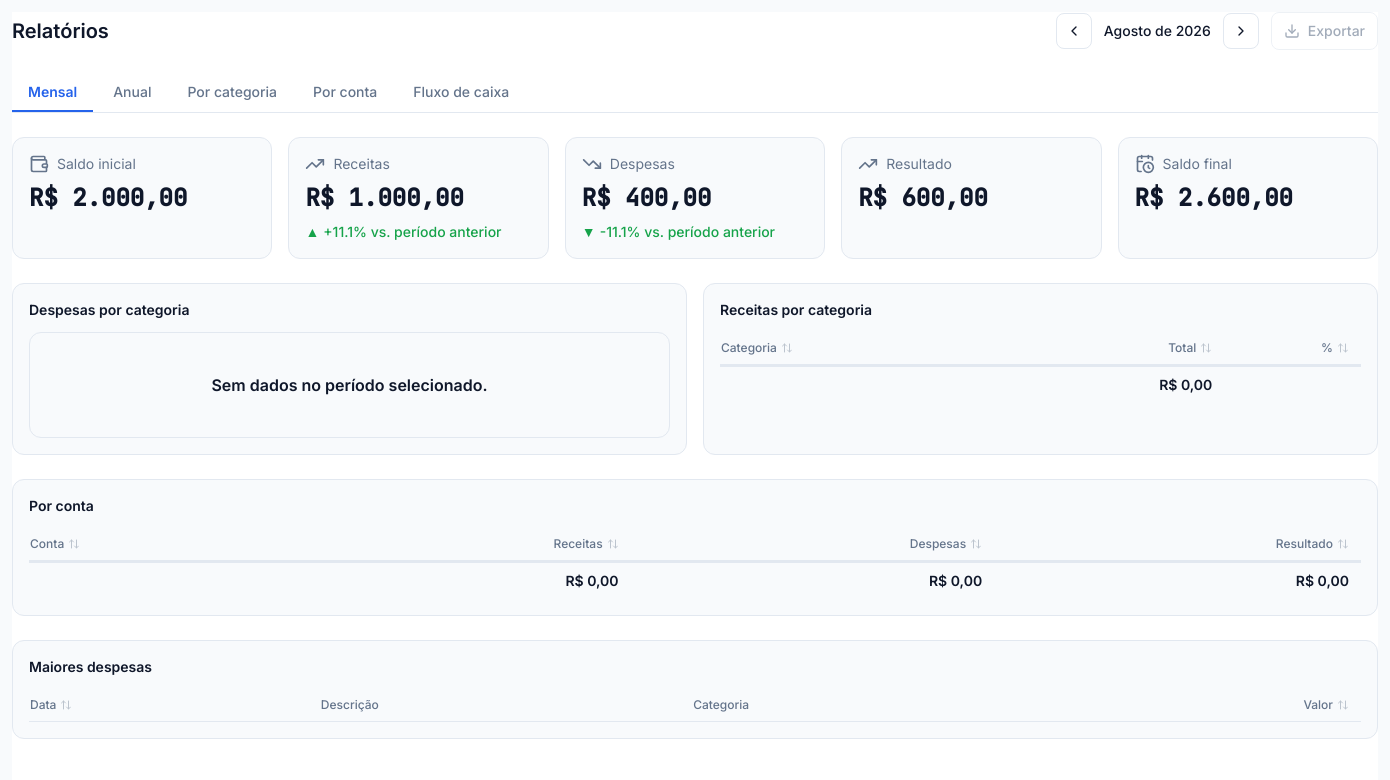
Scenario: Relatorios › trocar para a aba Anual usa navegação por ano em vez de mês
The image size is (1390, 780).
Expected: the text "Saldo inicial" is shown, [57,154,136,174]
Click the tab "Anual" at (132, 93), box [97,74,168,112]
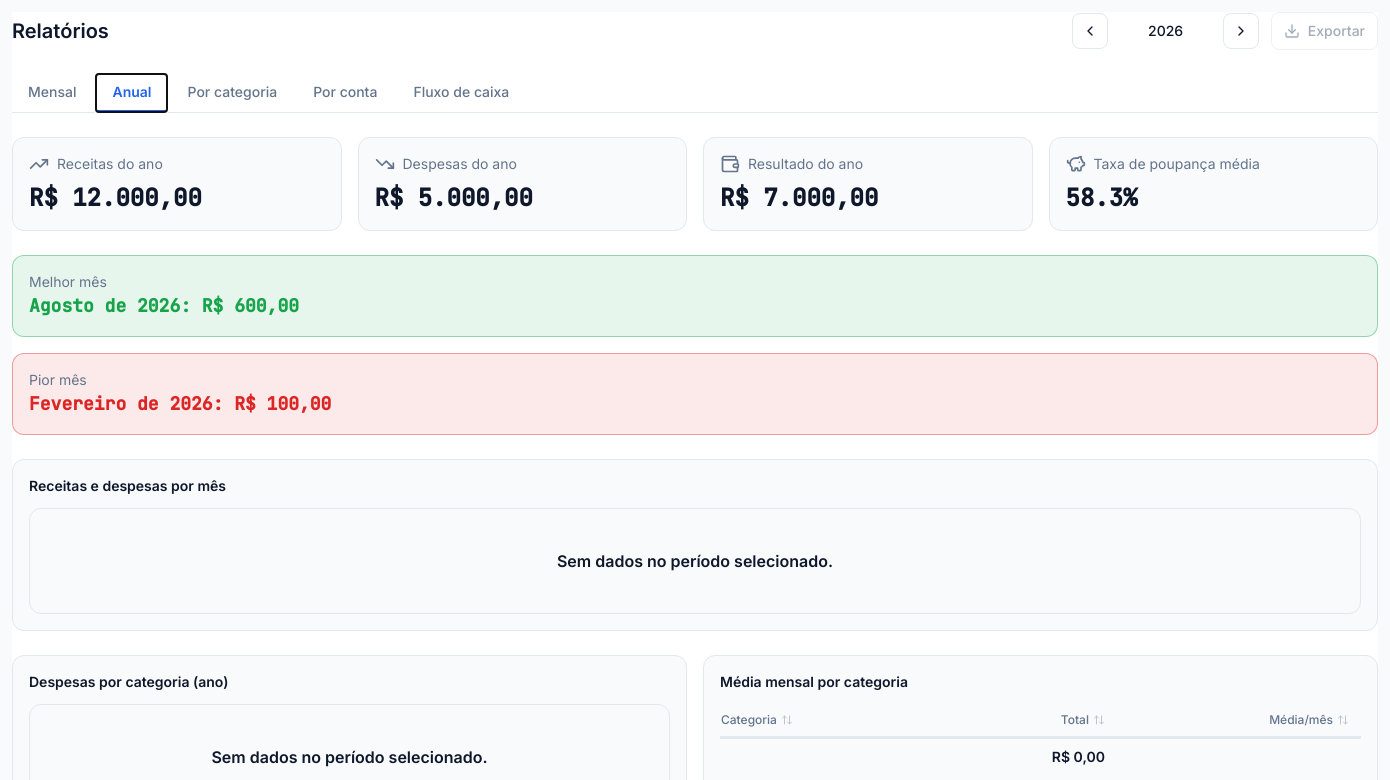
Expected: the text "Receitas do ano" is shown, [57,154,163,174]
Expected: the button named "Ano anterior" is shown, [1072,13,1108,49]
